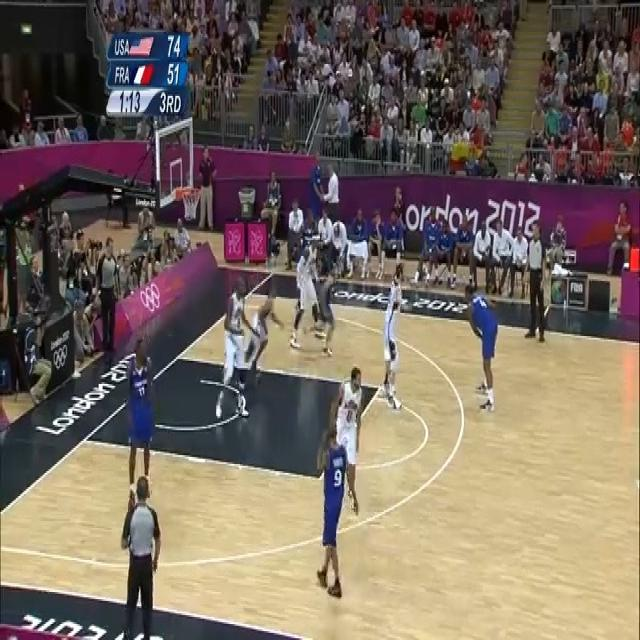hoop: (180, 184, 201, 226)
person: (314, 365, 360, 598), (119, 476, 161, 640), (527, 220, 550, 342), (609, 199, 634, 273), (286, 199, 304, 269), (70, 114, 88, 144), (53, 118, 73, 144)
